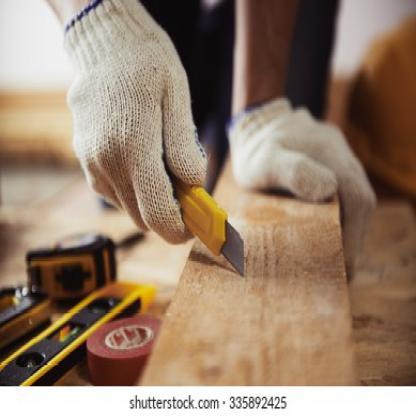with_gloves: (63, 1, 208, 244), (224, 95, 378, 284)
